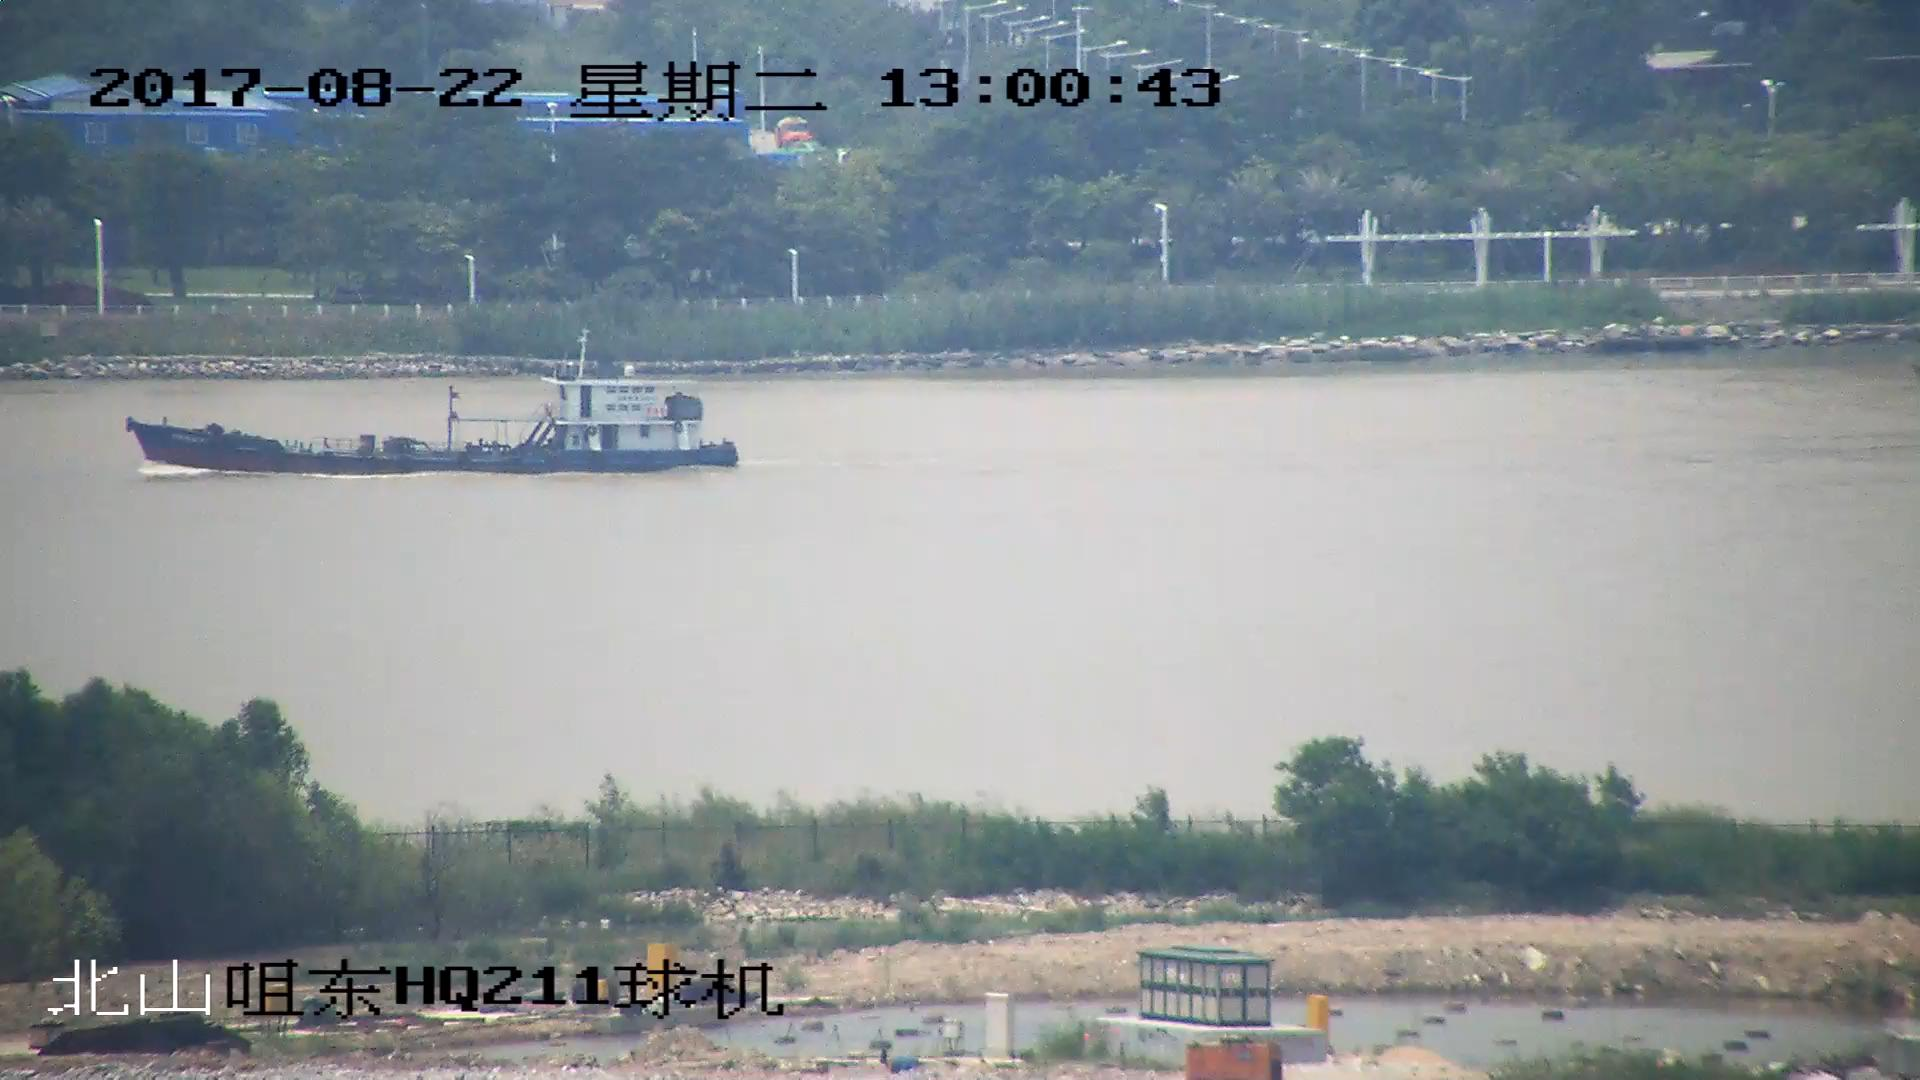fishing boat: (128, 336, 737, 477)
